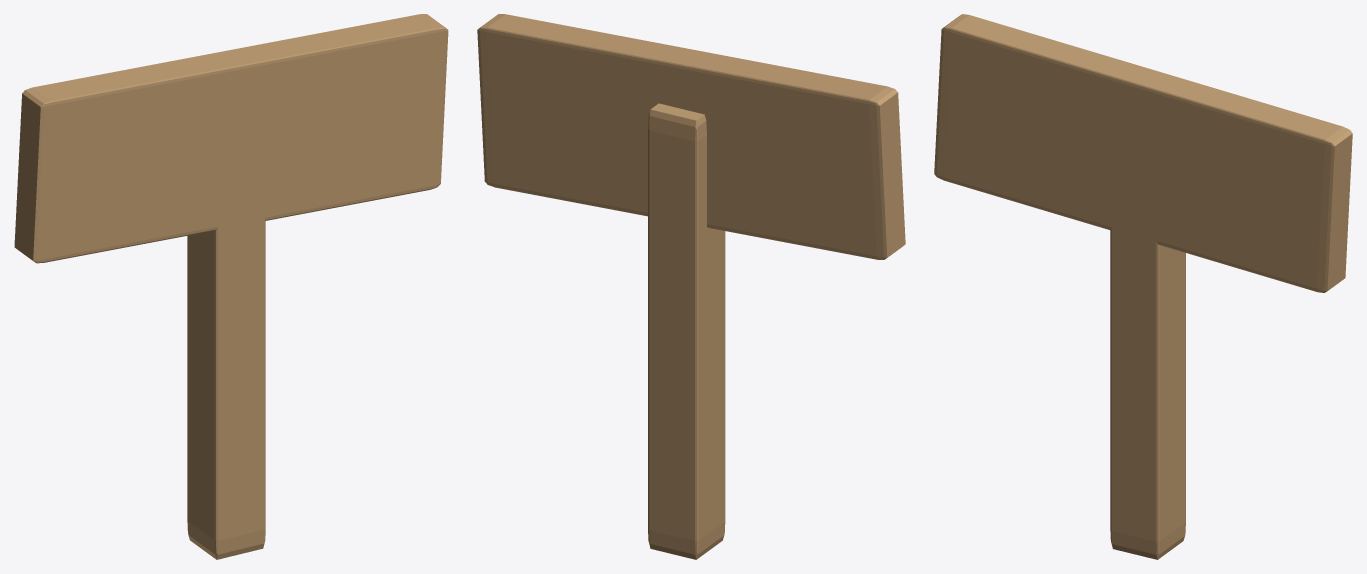
File: Signpost.fbx
3 renders of one model, left to right at view 1: azimuth 30°, elevation 25°; view 2: azimuth 150°, elevation 25°; view 3: azimuth 330°, elevation 25°, orthographic. The views are drawn at different scales.
Visible parts, largest first — view 1: Wood.003; view 2: Wood.003; view 3: Wood.003.
Boxes of the visible parts, box(x1,y1,x2,y2) form: Wood.003: box(14, 14, 448, 559); Wood.003: box(477, 14, 905, 559); Wood.003: box(934, 14, 1352, 559).
Size of the model in its own units: 4.88 by 5.62 by 0.6.
